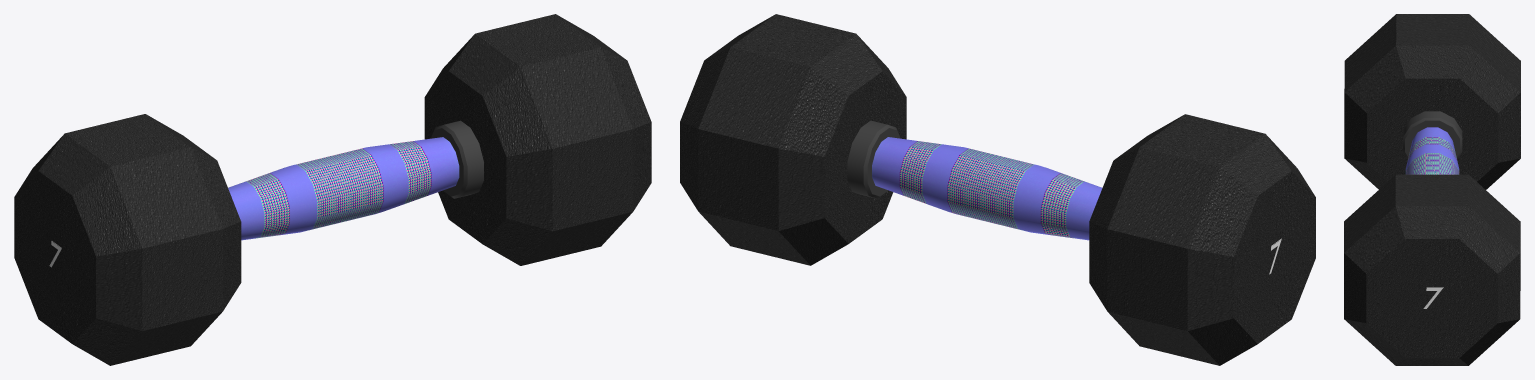
File: Dumbbell_7kG.FBX
3 renders of one model, left to right at view 1: azimuth 30°, elevation 25°; view 2: azimuth 150°, elevation 25°; view 3: azimuth 270°, elevation 25°, orthographic. The views are drawn at different scales.
Visible parts, largest first — view 1: Dumbbell_7kG; view 2: Dumbbell_7kG; view 3: Dumbbell_7kG.
Boxes of the visible parts, box(x1,y1,x2,y2) form: Dumbbell_7kG: box(14, 14, 651, 365); Dumbbell_7kG: box(680, 14, 1315, 365); Dumbbell_7kG: box(1344, 14, 1520, 365).
Size of the model in its own units: 0.3115 by 0.1071 by 0.1068.
